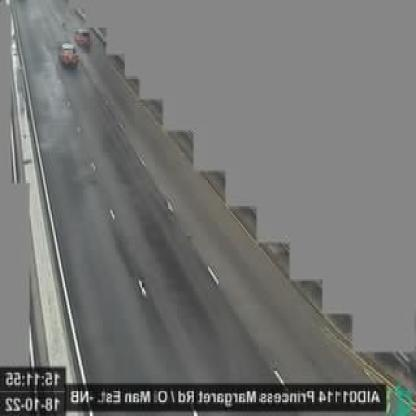Car: (61, 40, 80, 69), (74, 27, 92, 49)
